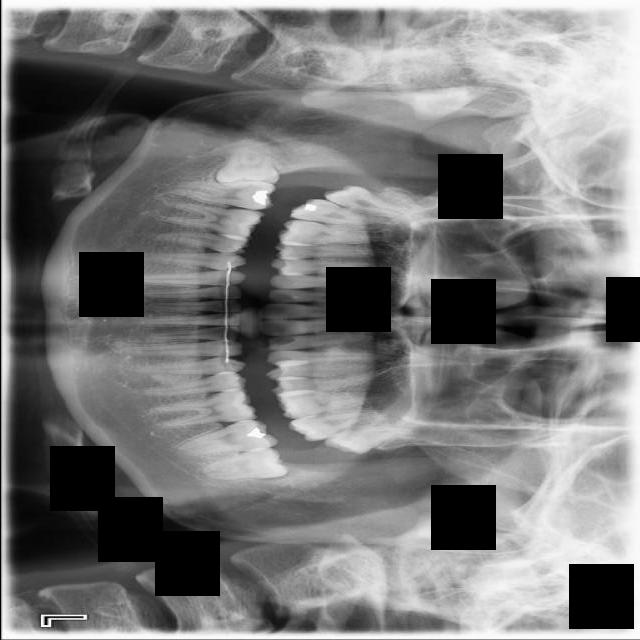3M ESPE Implant: (322, 176, 417, 229)
52: (226, 177, 276, 213), (288, 194, 340, 226), (231, 421, 277, 451)
73: (68, 586, 77, 590)
BioHorizons Implant: (286, 404, 390, 445)
BioLife Implant: (319, 423, 414, 458)
Biomet 3i Implant: (199, 446, 288, 486)
Blue Sky Bio Implant: (170, 418, 279, 458)
Caries: (286, 196, 404, 231)
Implant: (171, 181, 276, 211)
Keystone Dental Implant: (216, 148, 280, 189)
